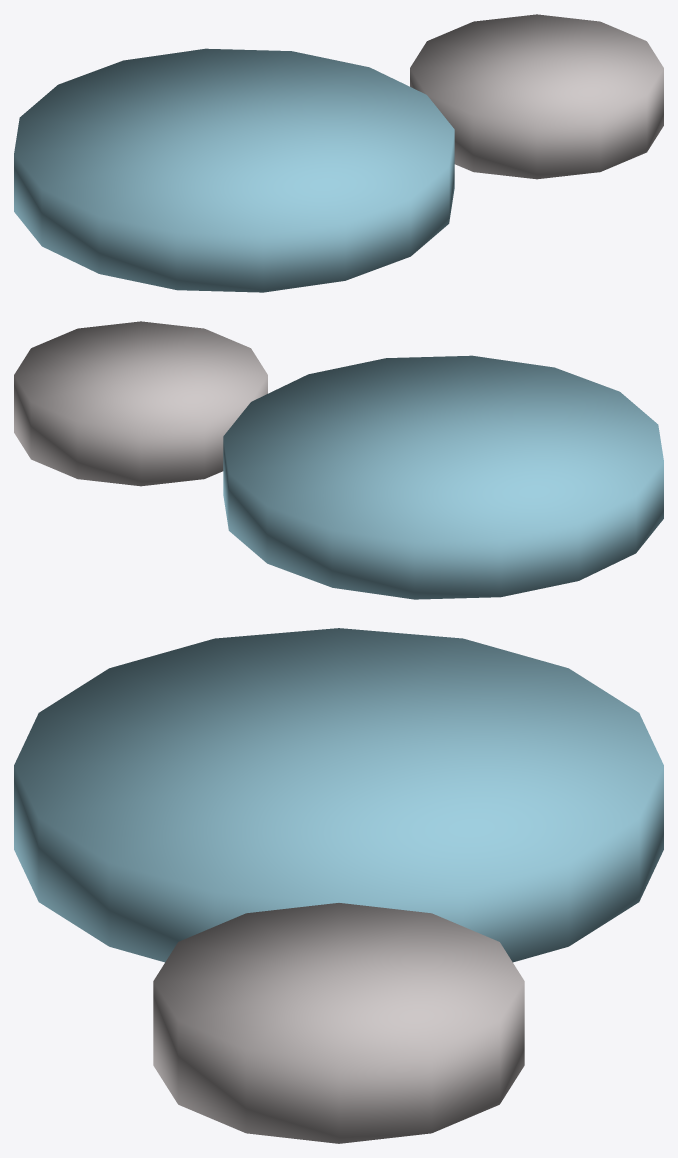
Rendered from gears.glb.
3 renders of one model, top to bottom at view 1: azimuth 30°, elevation 25°; view 2: azimuth 150°, elevation 25°; view 3: azimuth 270°, elevation 25°, orthographic. The views are drawn at different scales.
Visible parts, largest first — view 1: gear_driver, gear_driven; view 2: gear_driver, gear_driven; view 3: gear_driver, gear_driven.
Part boxes in pixels (box(x1,y1,x2,y2)): gear_driver: box(14, 48, 454, 292); gear_driven: box(410, 14, 663, 179); gear_driver: box(223, 355, 663, 599); gear_driven: box(14, 321, 267, 486); gear_driver: box(14, 628, 663, 962); gear_driven: box(153, 903, 524, 1143).
Bounding box in the file's own units: 2.2 × 0.2 × 1.4.
